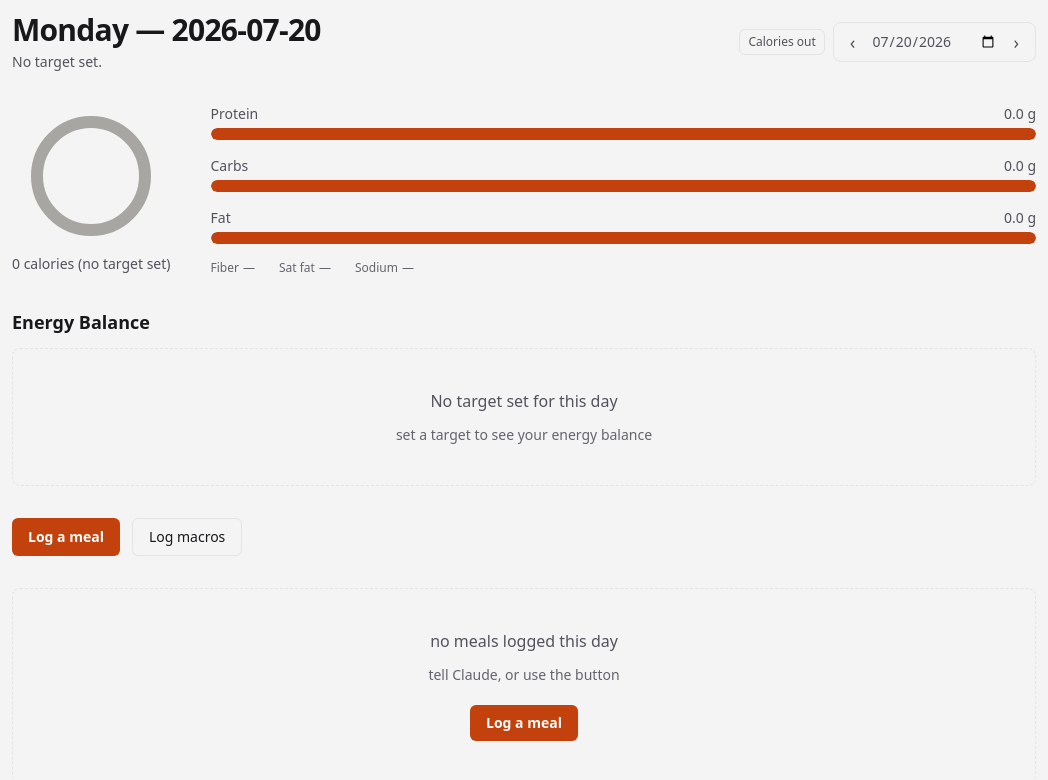
DayView › date picker › jumps to a directly-entered date via the native date input
expect the heading "Monday — 2026-07-20" is shown: met, box 12,12 -> 321,48
Type "2026-07-10" into the date field named "select date" at (934, 42), box 867,27 -> 1001,57
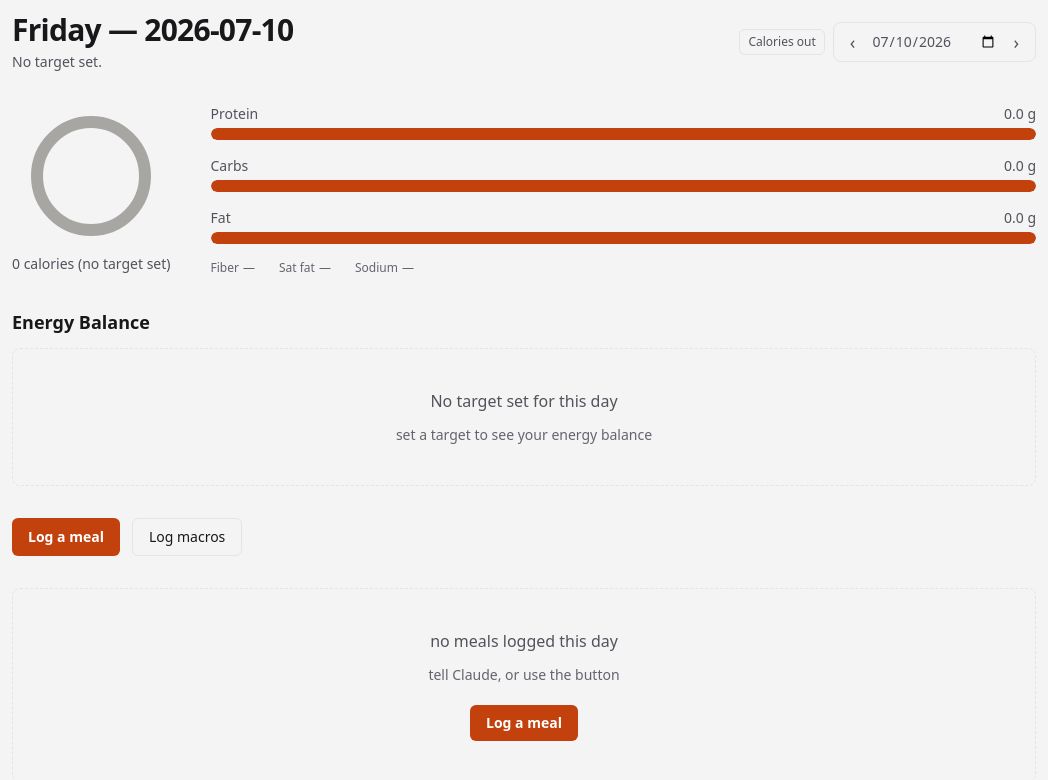
expect the heading "Friday — 2026-07-10" is shown: met, box 12,12 -> 293,48
